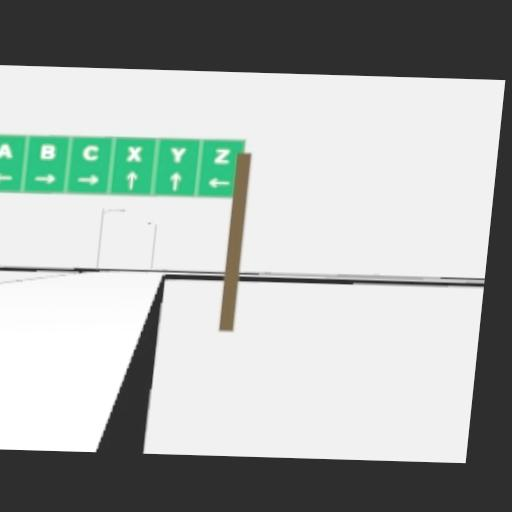A: (0, 141, 14, 158)
B: (40, 142, 59, 160)
C: (82, 143, 101, 161)
Left: (206, 175, 232, 187), (0, 171, 12, 182)
Right: (76, 173, 102, 185), (34, 173, 57, 183)
Straight: (167, 170, 181, 190), (125, 170, 139, 189)
X: (124, 145, 143, 160)
Y: (169, 143, 189, 164)
Z: (213, 147, 230, 163)
